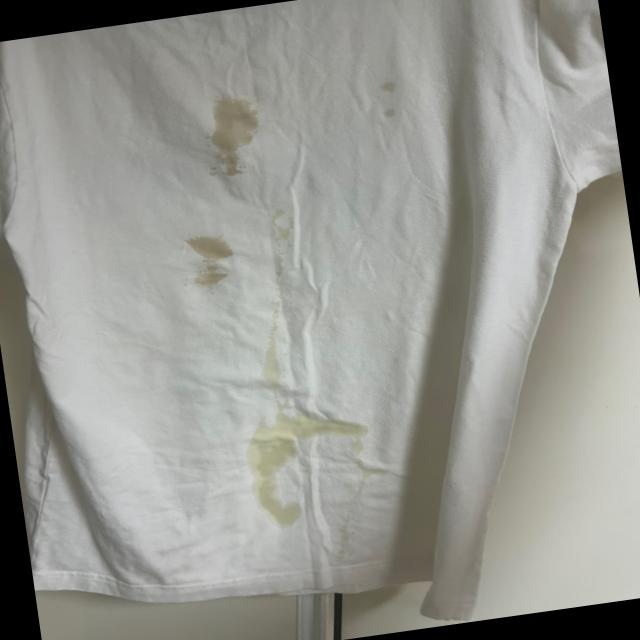stain: (249, 402, 375, 458), (200, 90, 276, 182), (247, 446, 317, 534), (176, 232, 237, 292), (260, 215, 302, 287), (373, 78, 404, 120)
